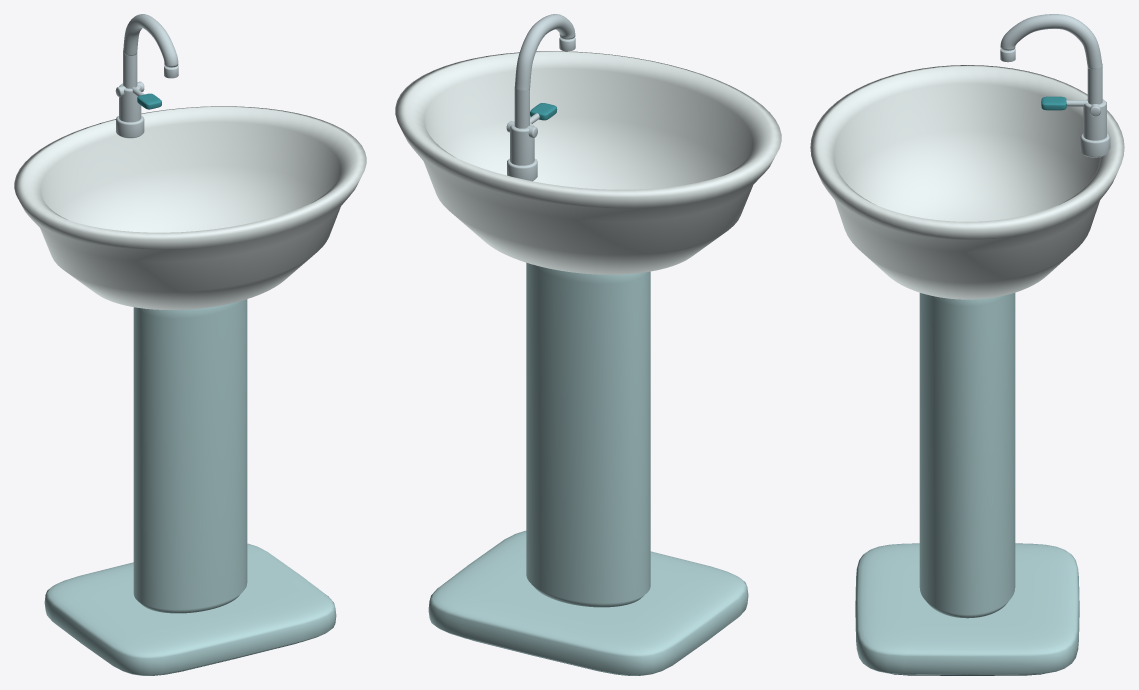
File: hygiene_sink.glb
3 views of the same model, side by side, from view 1: azimuth 30°, elevation 25°; view 2: azimuth 150°, elevation 25°; view 3: azimuth 270°, elevation 25° (orthographic). The views are drawn at different scales.
Visible parts, largest first — view 1: Basin_Shell, Pedestal_Shell, Floor_Base, Faucet_Spout, Faucet_Cartridge; view 2: Basin_Shell, Pedestal_Shell, Floor_Base, Faucet_Spout, Faucet_Cartridge, Faucet_Neck; view 3: Basin_Shell, Pedestal_Shell, Floor_Base, Faucet_Spout, Faucet_Cartridge, Faucet_Neck, Faucet_Base.
Part boxes in pixels (x1,y1,x2,y2): Basin_Shell: (14,106,366,309); Pedestal_Shell: (133,299,247,613); Floor_Base: (44,543,336,675); Faucet_Spout: (123,14,178,69); Faucet_Cartridge: (119,83,141,122); Basin_Shell: (395,51,781,274); Pedestal_Shell: (526,262,650,607); Floor_Base: (428,530,748,675); Faucet_Spout: (515,14,575,89); Faucet_Cartridge: (510,123,534,165); Faucet_Neck: (514,87,529,128); Basin_Shell: (810,65,1124,299); Pedestal_Shell: (919,293,1015,618); Floor_Base: (855,543,1079,674); Faucet_Spout: (1000,14,1102,69); Faucet_Cartridge: (1083,99,1106,140); Faucet_Neck: (1087,64,1102,104); Faucet_Base: (1080,133,1110,157).
Size of the model in its own units: 0.6272 by 1.08 by 0.504.
